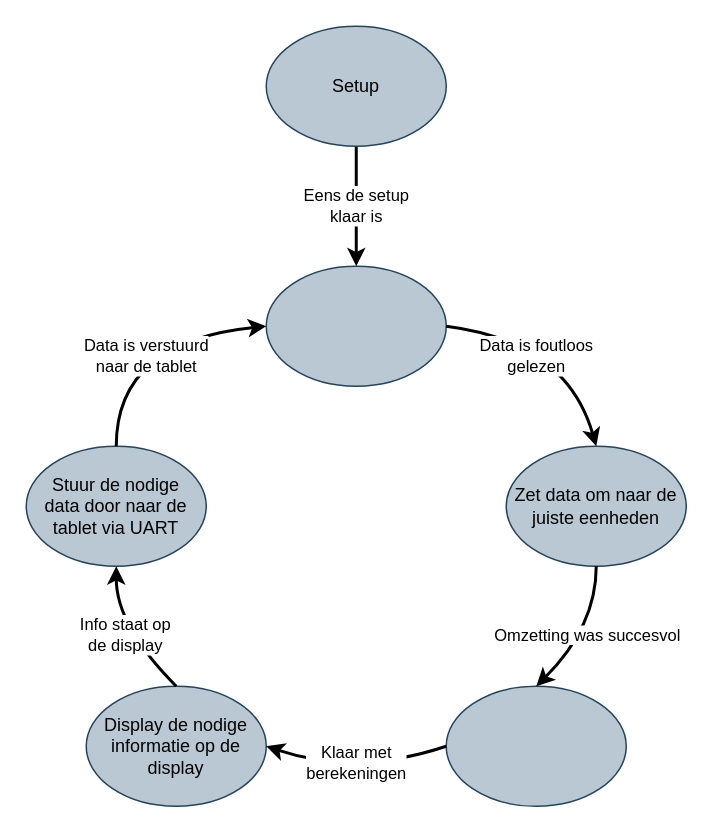
Image size: 713x833. Some labels were removed from this diagram. The centre of each missing label's shape, as x and y in pixels:
"Bereken nodige parameters (zoals dauwpunt)" belongs at point (535, 745).
"Lees sensor data via I2S" belongs at point (355, 325).
